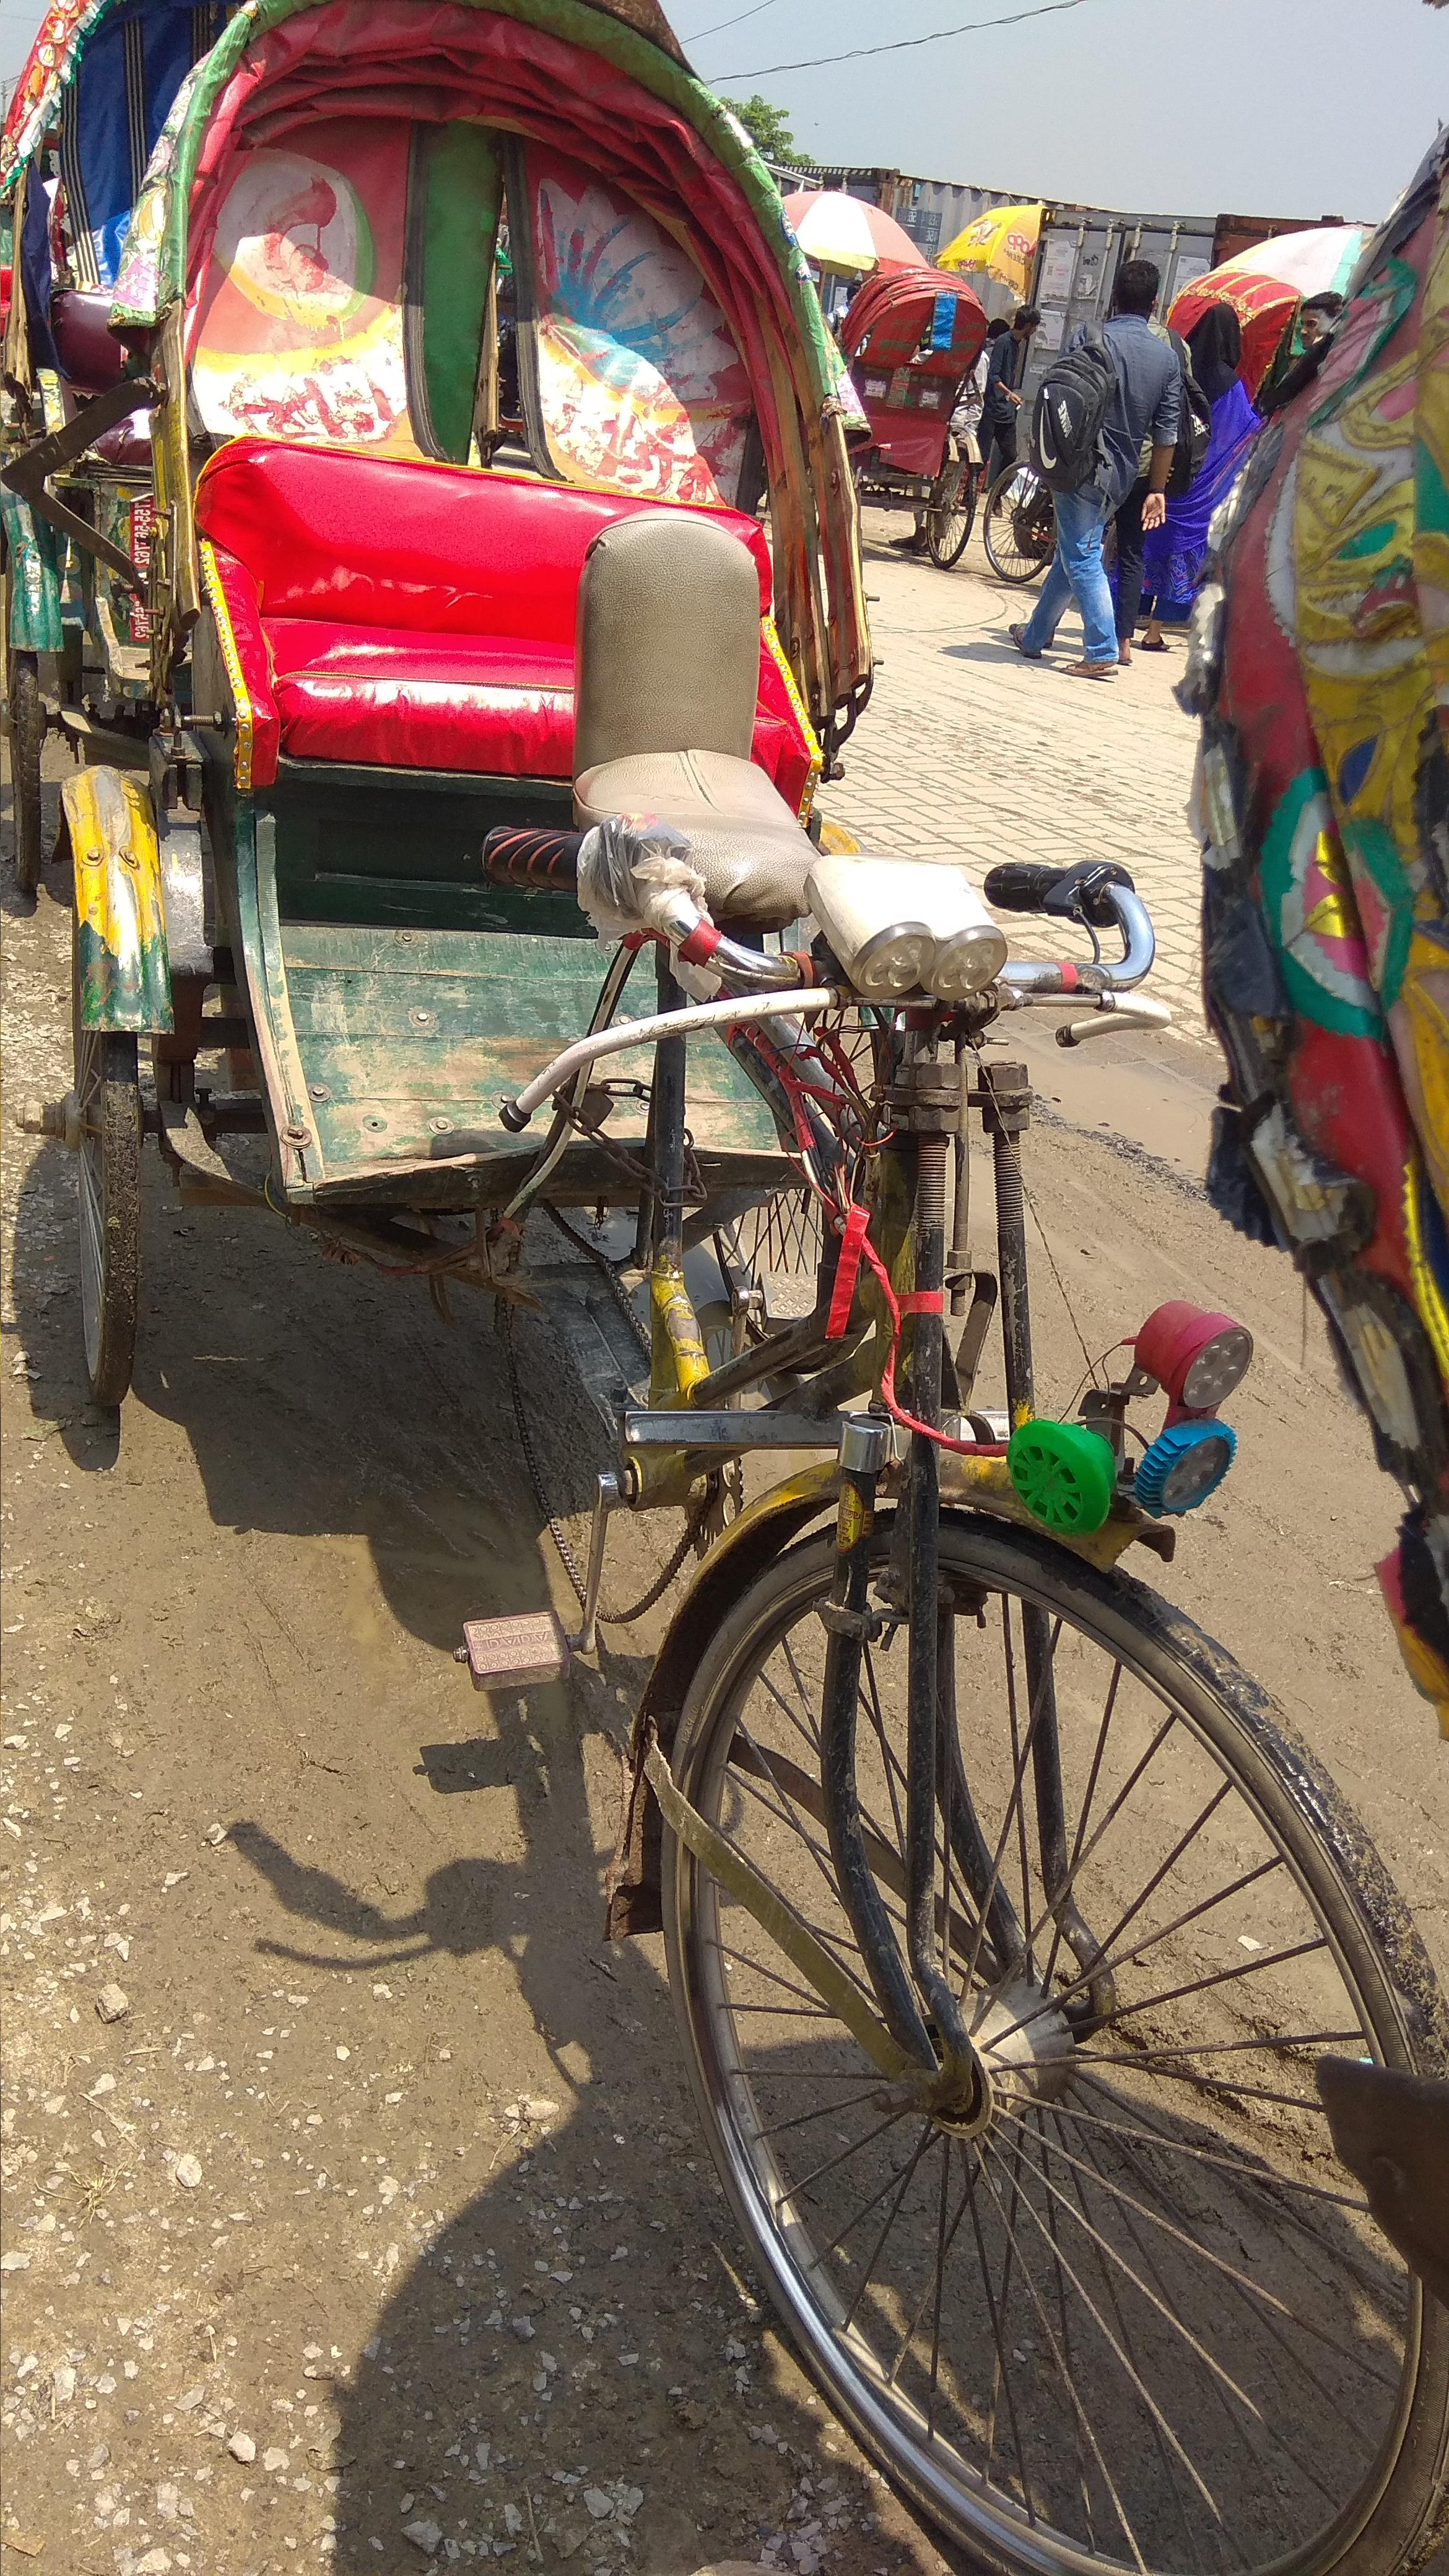Rickshaw: (117, 25, 1421, 2473), (16, 14, 198, 870)
